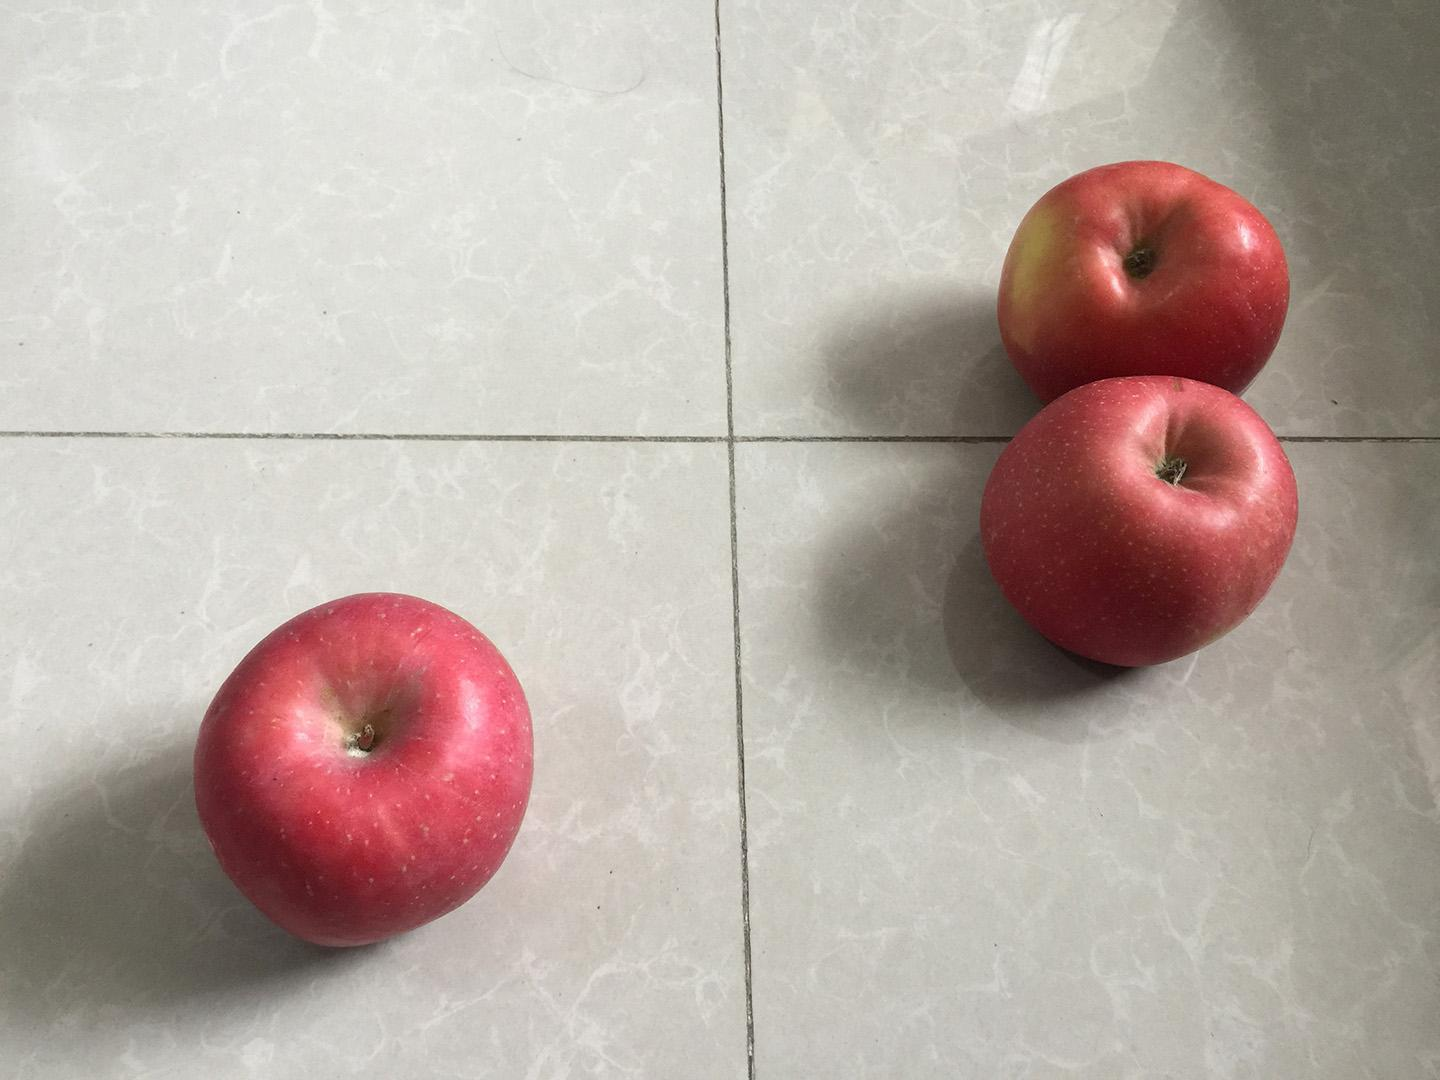apple: (188, 580, 542, 952), (975, 365, 1304, 672), (990, 155, 1291, 419)
